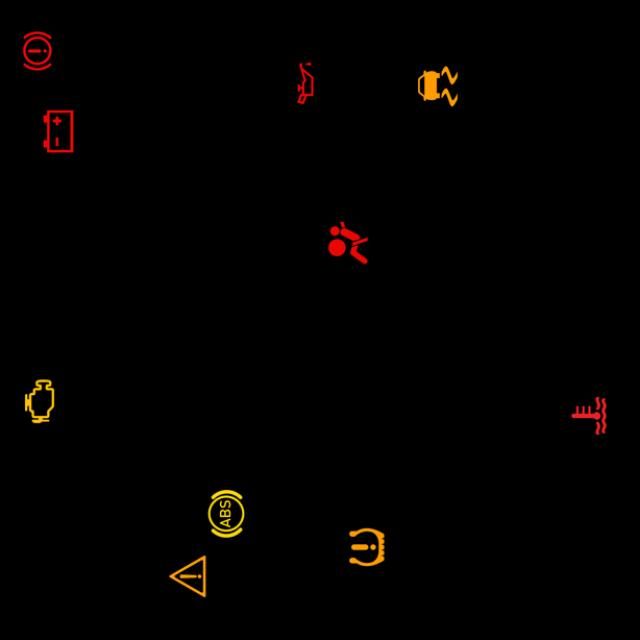Anti Lock Braking System: (200, 487, 252, 539)
Braking System Issue: (12, 24, 64, 76)
Charging System Issue: (32, 105, 84, 156)
Check Engine: (14, 374, 66, 426)
Electronic Stability Problem -ESP-: (412, 60, 464, 112)
Engine Overheating Warning Light: (563, 389, 615, 441)
Low Engine Oil Warning Light: (280, 56, 332, 108)
Low Tire Pressure Warning Light: (341, 520, 393, 572)
Master warning light: (162, 550, 214, 602)
SRS-Airbag: (322, 216, 374, 268)
